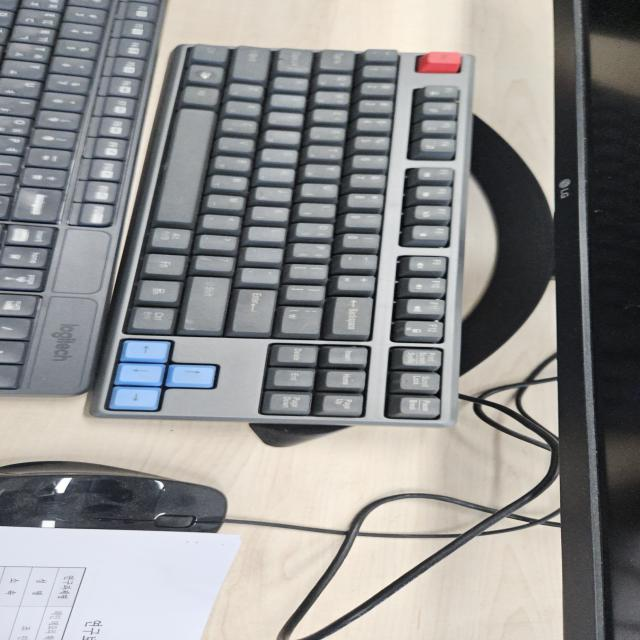Keyboard: (86, 41, 473, 428)
Mouse: (1, 458, 231, 534)
